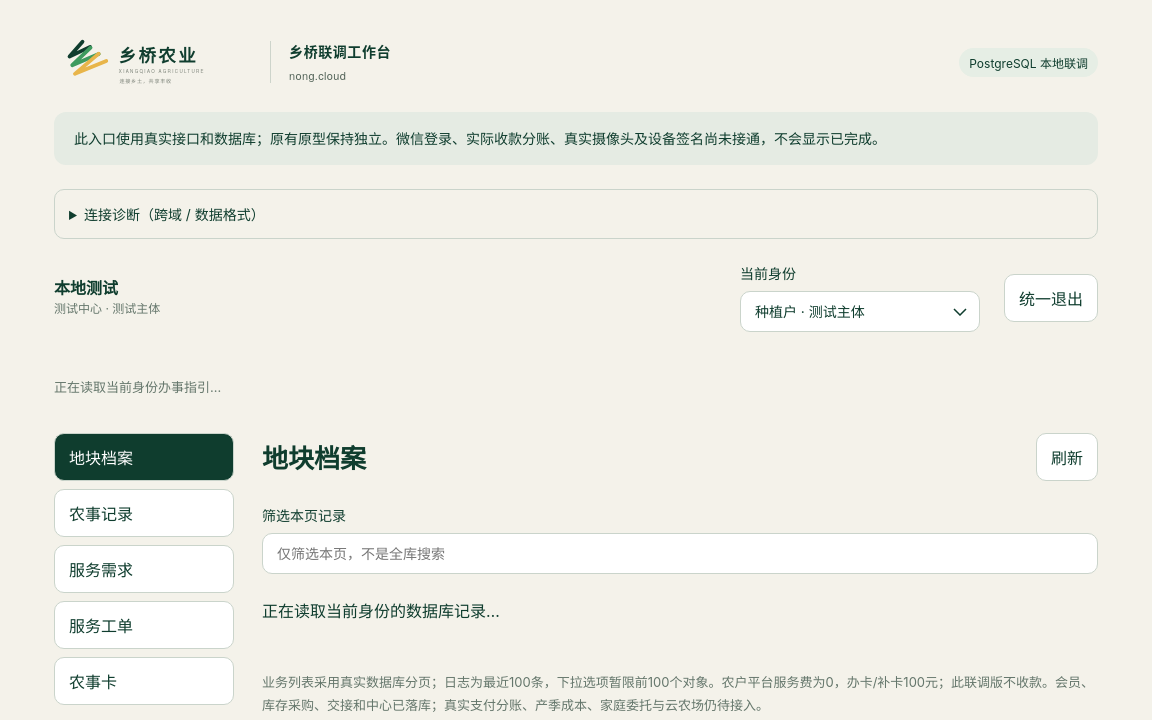
Scenario: changing modules clears the old list before new rows are available
Expected: the heading "地块档案" is shown, [262,438,366,475]
Click the button "农事记录" at (144, 513), box [54,489,234,537]
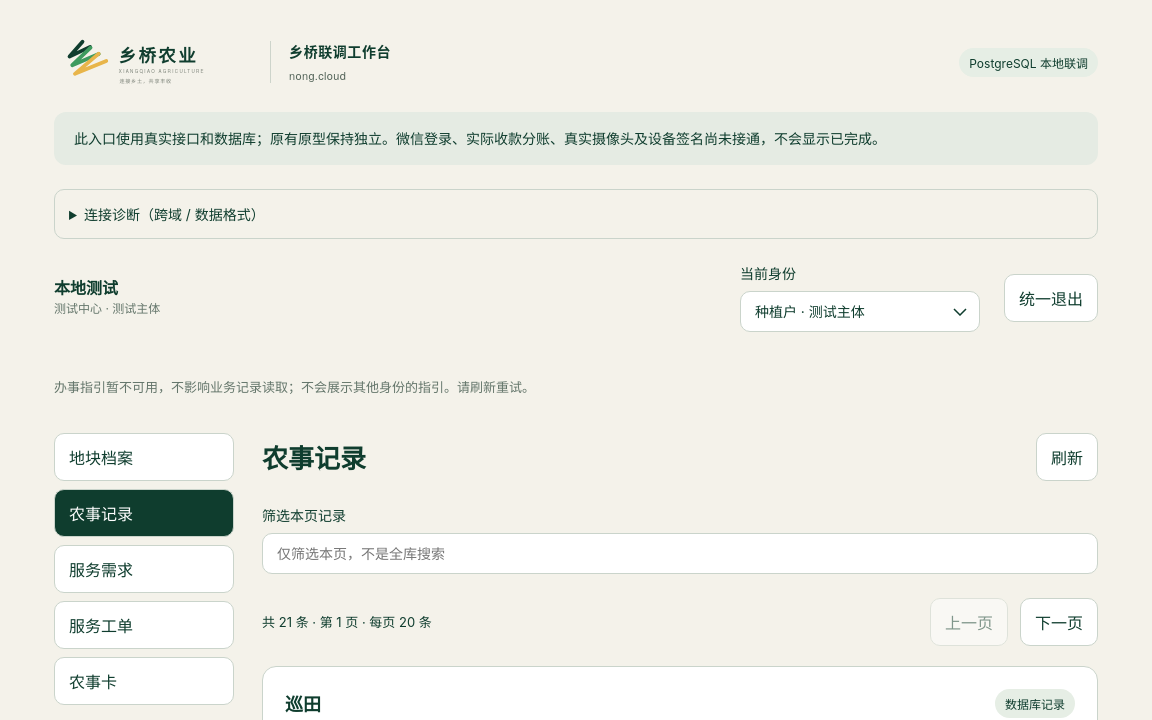
Click the button "农事卡" at (144, 681), box [54,657,234,705]
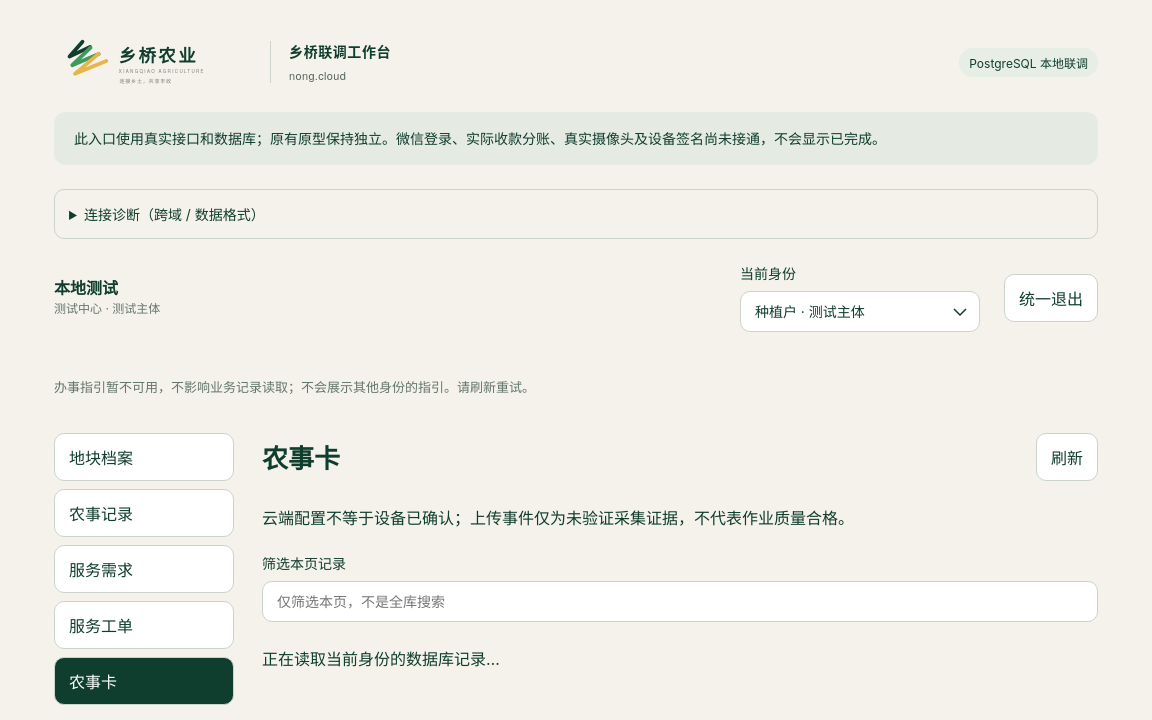
Expected: the text "正在读取当前身份的数据库记录…" is shown, [262,649,500,669]
